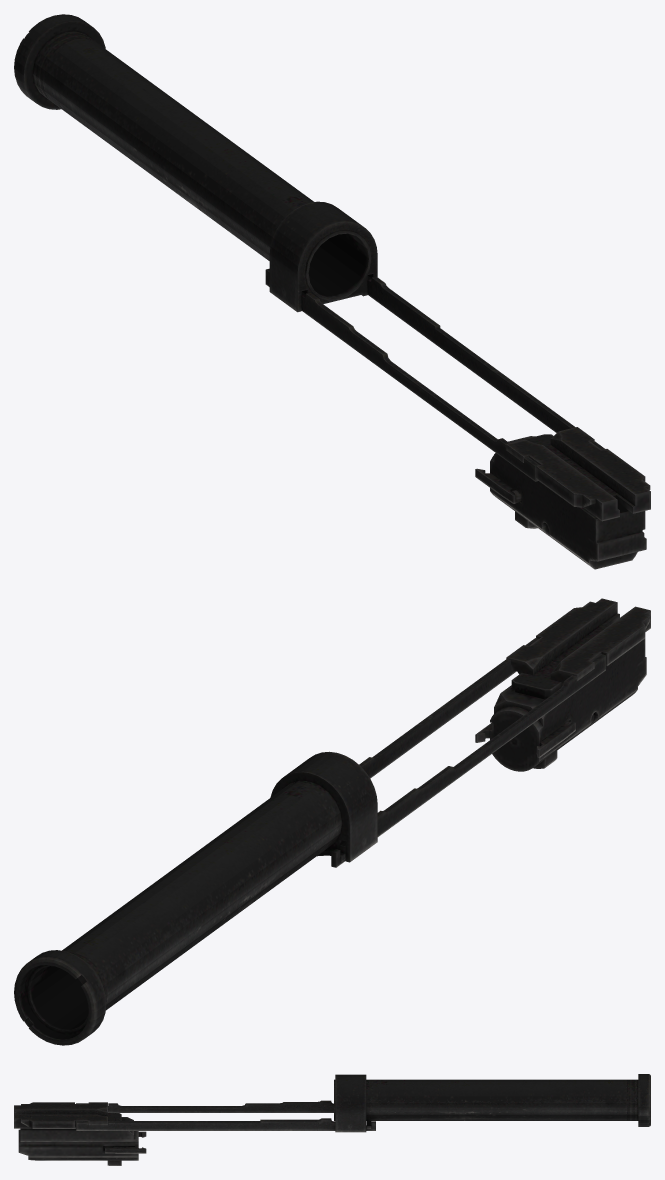
3 views of the same model, one above another, from view 1: azimuth 30°, elevation 25°; view 2: azimuth 150°, elevation 25°; view 3: azimuth 270°, elevation 25° (orthographic). The views are drawn at different scales.
Parts seen in each view (by area): view 1: TW_5e870397991fd70db46995c8_PZ_Import; view 2: TW_5e870397991fd70db46995c8_PZ_Import; view 3: TW_5e870397991fd70db46995c8_PZ_Import.
Boxes of the visible parts, bbox=[...] form: TW_5e870397991fd70db46995c8_PZ_Import: bbox=[14, 14, 650, 569]; TW_5e870397991fd70db46995c8_PZ_Import: bbox=[14, 598, 650, 1045]; TW_5e870397991fd70db46995c8_PZ_Import: bbox=[14, 1074, 650, 1165].
Size of the model in its own units: 0.0199 by 0.2398 by 0.0362.
Materials: 1 (1 with a texture image).
